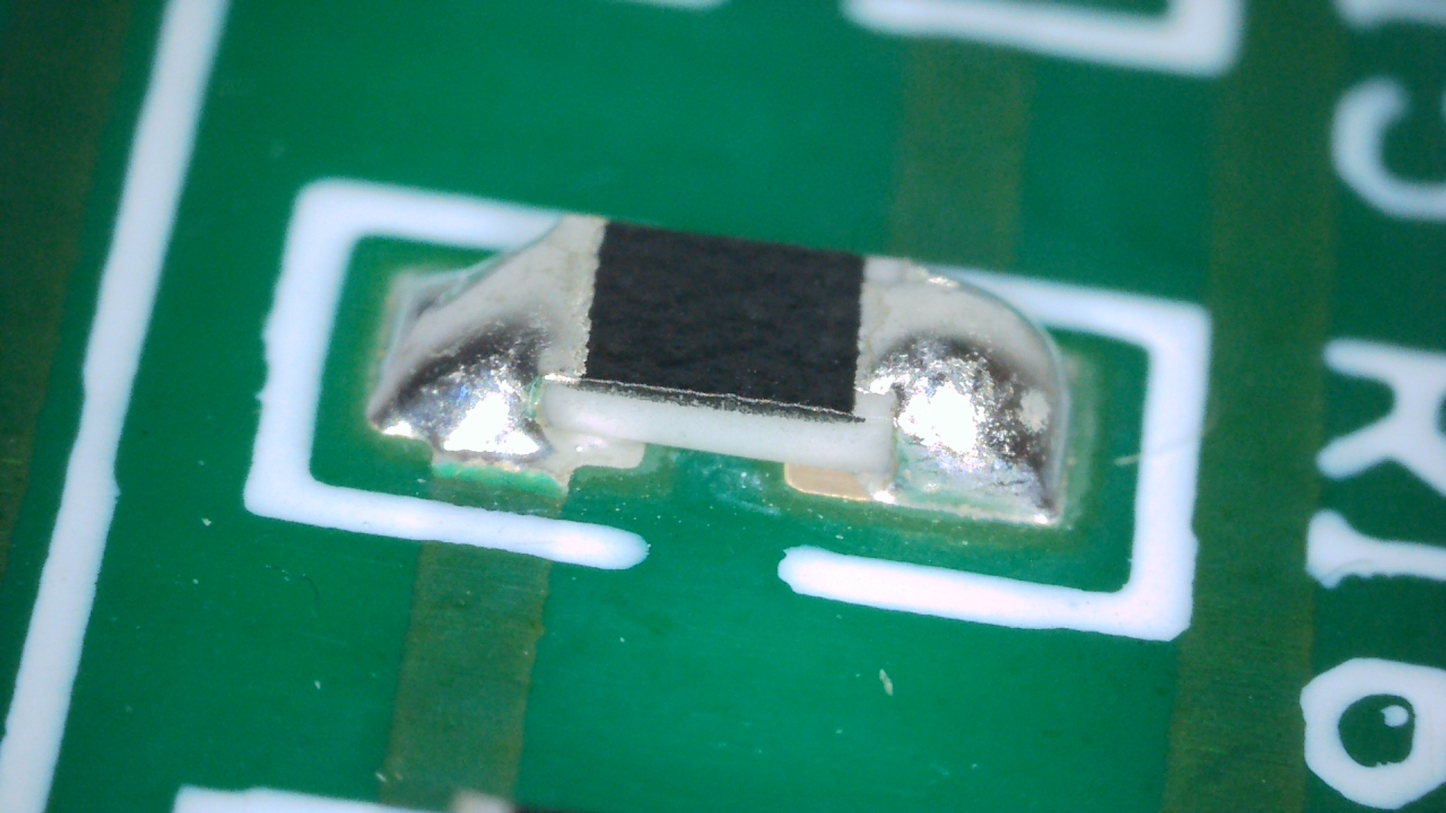NG: (848, 255, 1068, 522)
OK: (367, 212, 605, 460)
